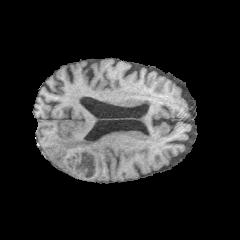glioma: (43, 137, 118, 181)
